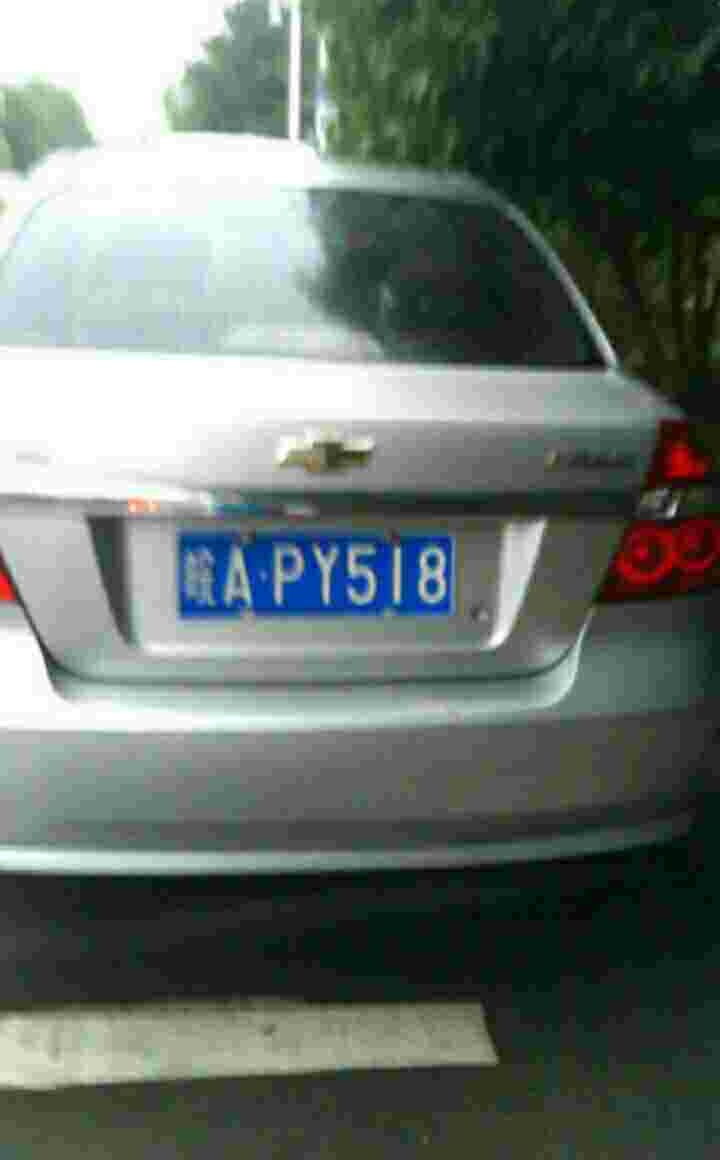license_plate: (184, 539, 461, 620)
